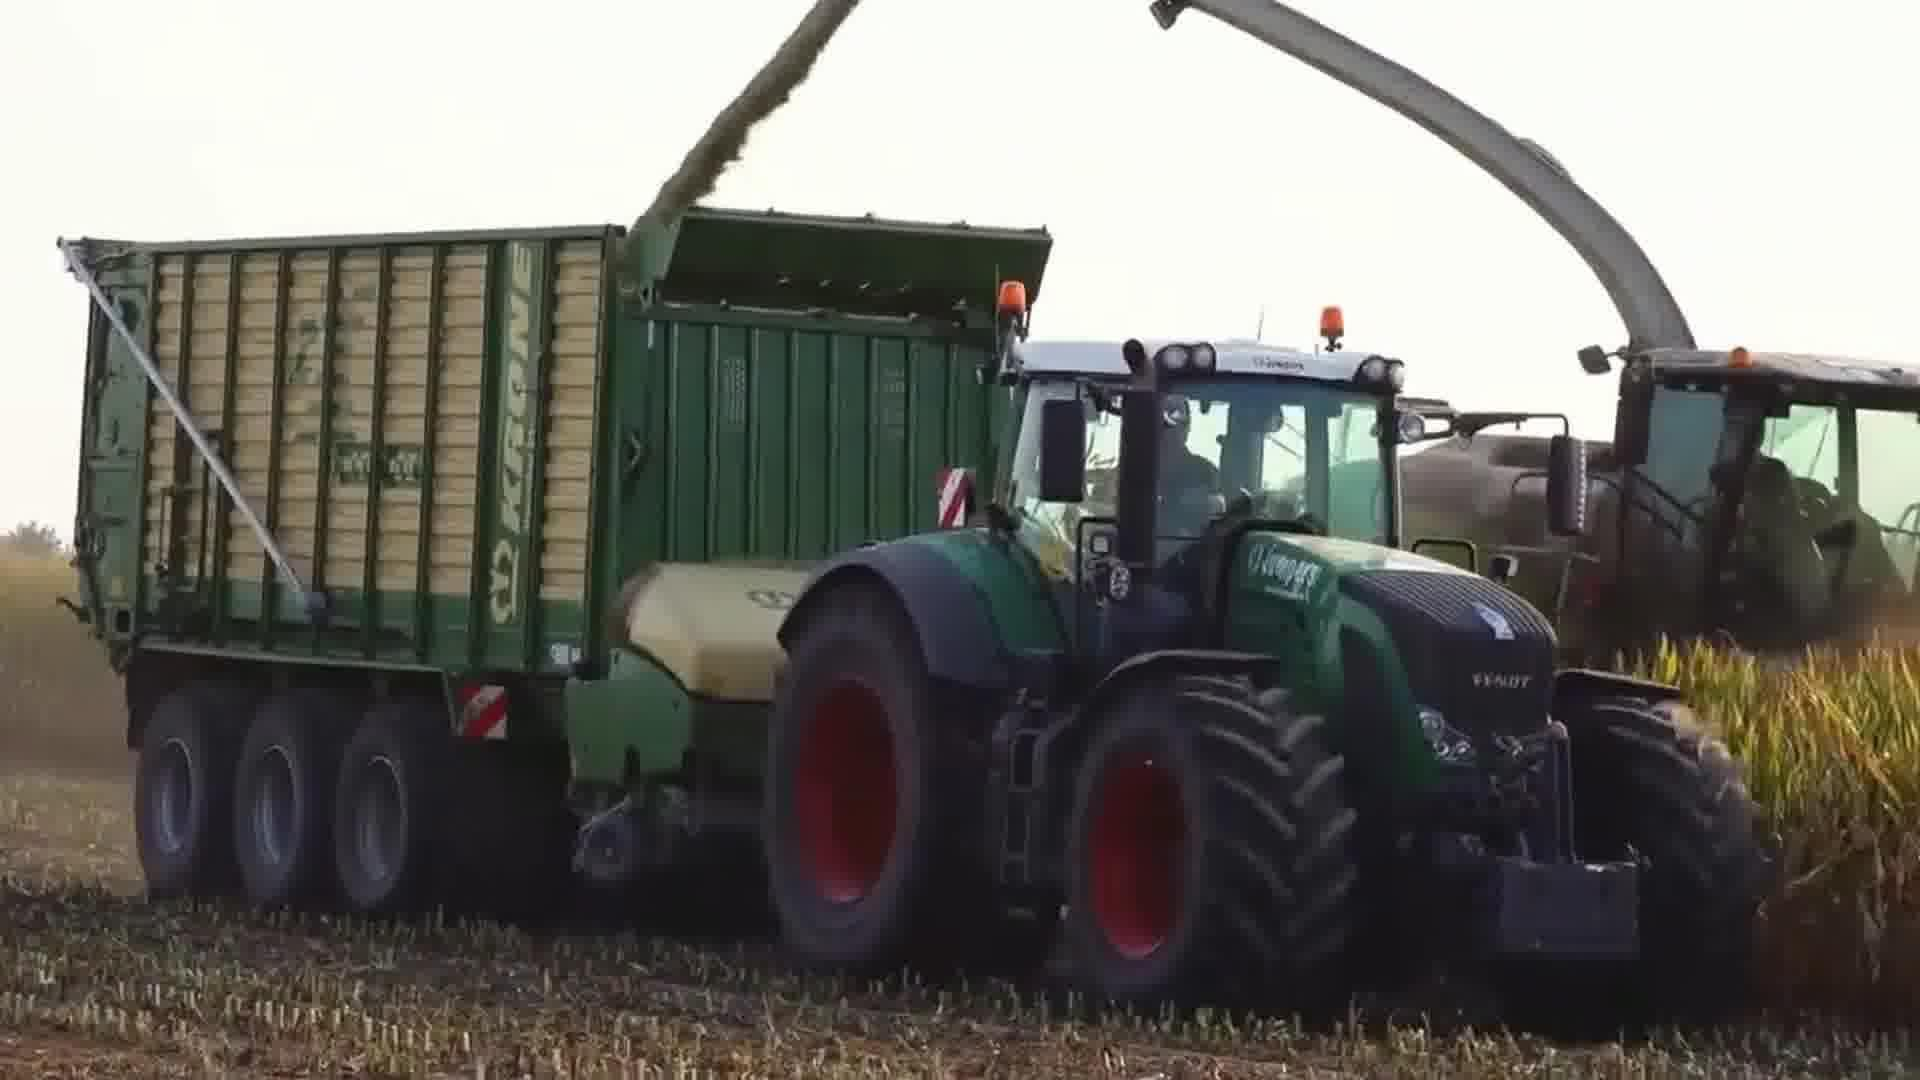combine harvester: (1138, 1, 1920, 698)
tractor: (744, 266, 1784, 1051)
trailer: (45, 199, 1056, 926)
